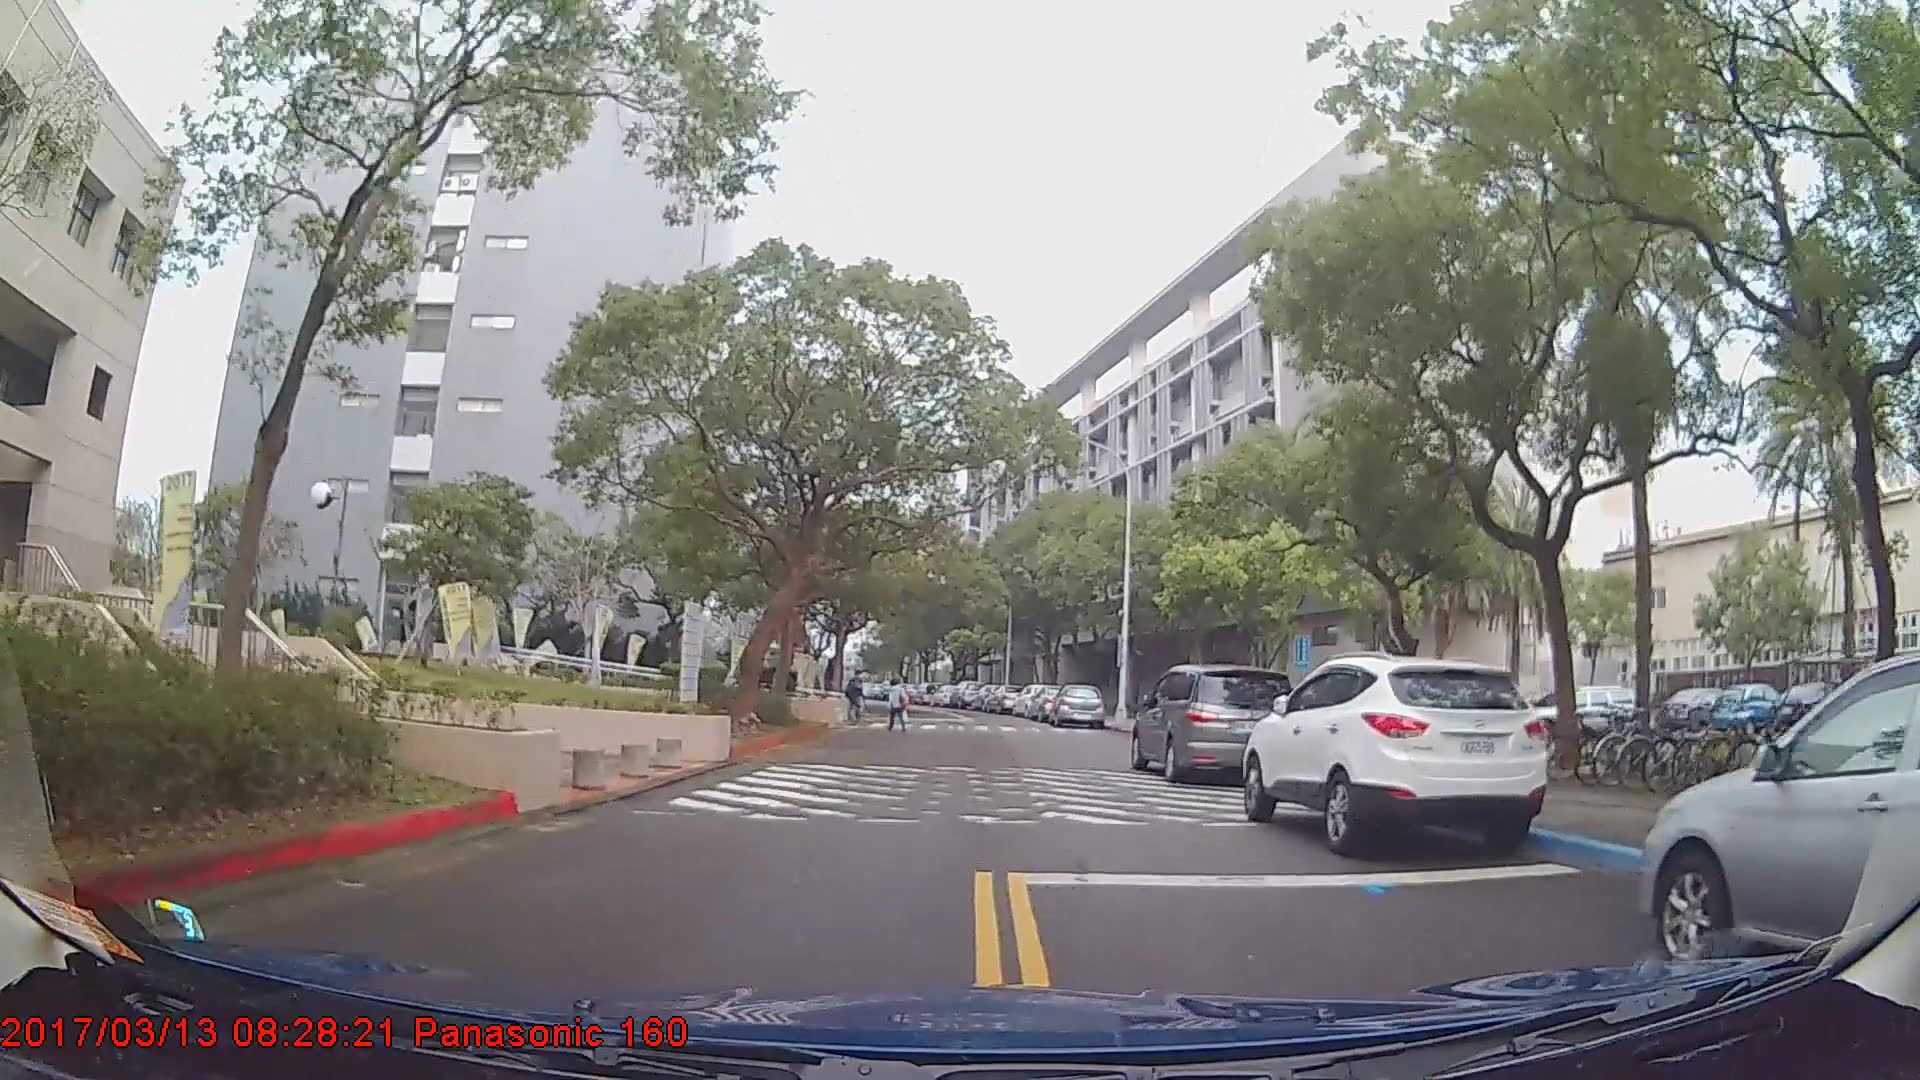pedestrian: (880, 680, 908, 736), (847, 673, 868, 725)
vehicle: (1639, 645, 1920, 990), (1241, 654, 1552, 855), (1129, 663, 1301, 786), (1502, 684, 1634, 747), (1767, 680, 1850, 732), (1655, 686, 1742, 732), (1709, 682, 1781, 733), (1051, 680, 1105, 731), (946, 679, 983, 709)
